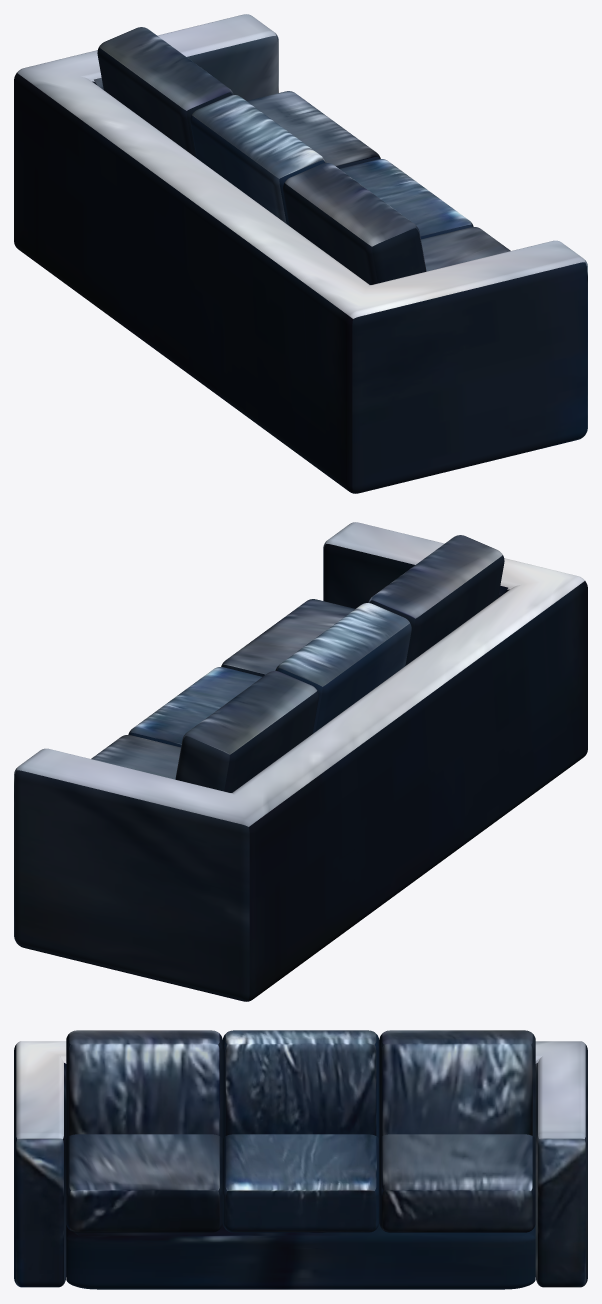
File: sofa.fbx
The picture shows the model from 3 angles, top to bottom: view 1: azimuth 30°, elevation 25°; view 2: azimuth 150°, elevation 25°; view 3: azimuth 270°, elevation 25°; orthographic projection. The views are drawn at different scales.
Parts seen in each view (by area): view 1: sofaBody, back.004, back.003, back.002, seats.003, seats.002, seats.004; view 2: sofaBody, back.002, back.003, back.004, seats.003, seats.004, seats.002; view 3: bottom.002, sofaBody, back.003, back.002, back.004, seats.003, seats.002, seats.004.
Part boxes in pixels (x1,y1,x2,y2): sofaBody: (14, 14, 587, 493); back.004: (283, 163, 426, 284); back.003: (190, 95, 326, 225); back.002: (97, 27, 233, 157); seats.003: (339, 159, 473, 239); seats.002: (247, 91, 380, 168); seats.004: (421, 227, 510, 271); sofaBody: (14, 522, 587, 1001); back.002: (175, 671, 318, 792); back.003: (275, 603, 411, 733); back.004: (368, 535, 504, 665); seats.003: (128, 667, 262, 747); seats.004: (221, 599, 354, 676); seats.002: (91, 735, 180, 779); bottom.002: (66, 1224, 535, 1289); sofaBody: (14, 1041, 587, 1287); back.003: (222, 1030, 379, 1138); back.002: (379, 1030, 535, 1138); back.004: (66, 1030, 222, 1138); seats.003: (222, 1134, 379, 1232); seats.002: (379, 1134, 535, 1232); seats.004: (66, 1134, 222, 1232).
Size of the model in its own units: 94.02 by 80.62 by 220.
Materials: 2 (2 with a texture image).
